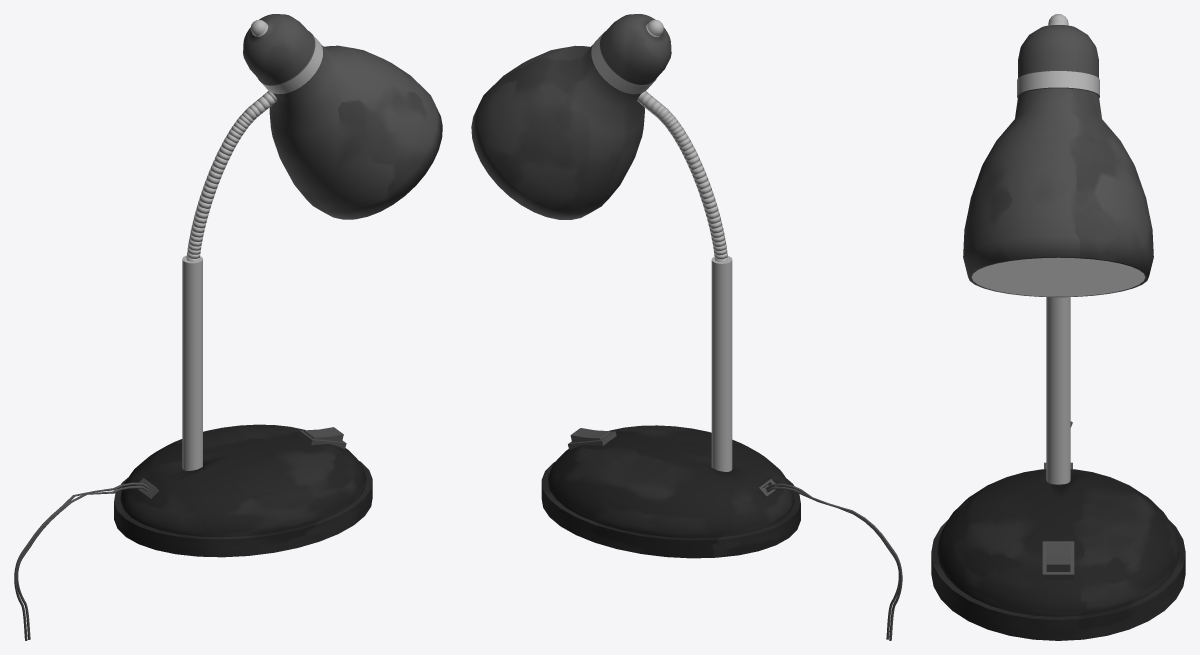
File: desklamp.fbx
3 renders of one model, left to right at view 1: azimuth 30°, elevation 25°; view 2: azimuth 150°, elevation 25°; view 3: azimuth 270°, elevation 25°, orthographic. The views are drawn at different scales.
Parts seen in each view (by area): view 1: Cylinder.002, Cylinder, Cylinder.001, BézierCurve, BézierCurve.002, Cube, BézierCurve.001; view 2: Cylinder.002, Cylinder, Cylinder.001, BézierCurve, BézierCurve.002, Cube; view 3: Cylinder.002, Cylinder, Cylinder.001, Cube.
Part boxes in pixels (x1,y1,x2,y2): Cylinder.002: (243,14,442,219); Cylinder: (114,424,372,557); Cylinder.001: (182,255,202,470); BézierCurve: (186,91,277,261); BézierCurve.002: (14,482,148,640); Cube: (298,427,346,449); BézierCurve.001: (16,486,148,639); Cylinder.002: (471,14,671,219); Cylinder: (541,425,800,558); Cylinder.001: (711,256,732,471); BézierCurve: (637,91,727,261); BézierCurve.002: (765,483,902,640); Cube: (568,428,616,450); Cylinder.002: (963,14,1153,297); Cylinder: (931,469,1185,640); Cylinder.001: (1046,297,1070,484); Cube: (1042,541,1074,580).
Bounding box in the file's own units: 3.55 × 4.57 × 1.6.
5 materials, 2 textured.
